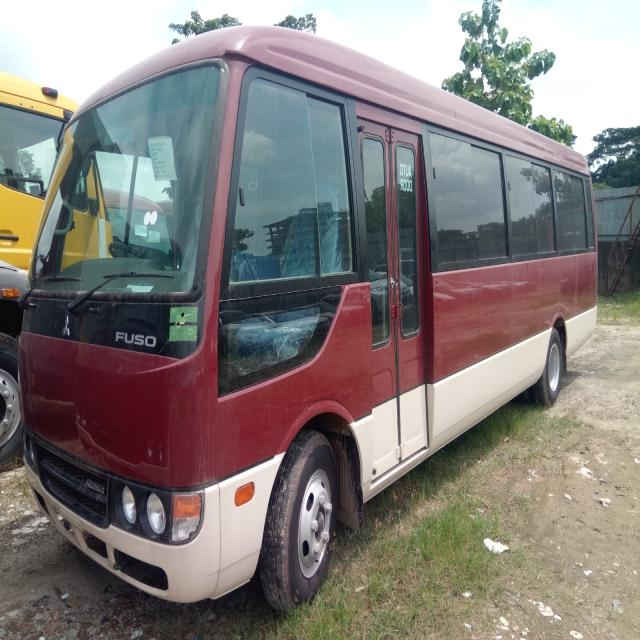bus: (13, 19, 610, 628)
